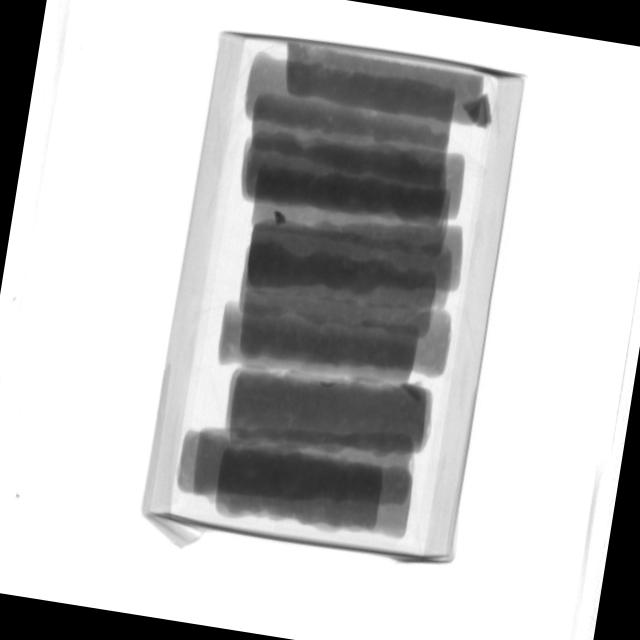ym: (460, 92, 499, 132), (274, 208, 291, 227)
